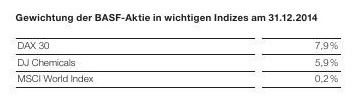table: (0, 0, 352, 101)
